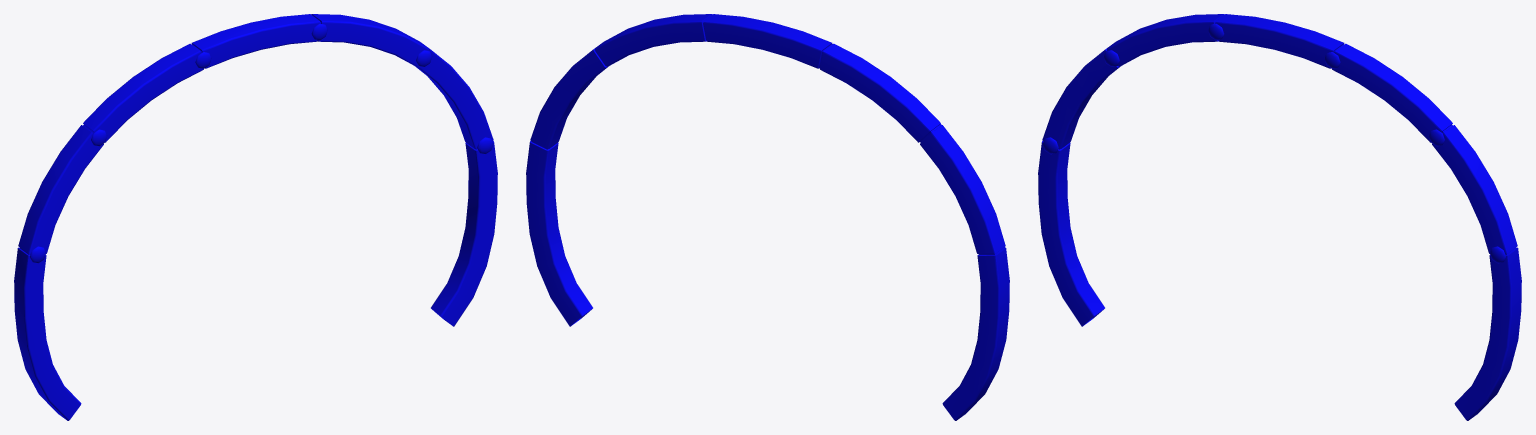
Rendered from GB_arch.fbx.
3 views of the same model, side by side, from view 1: azimuth 30°, elevation 25°; view 2: azimuth 150°, elevation 25°; view 3: azimuth 330°, elevation 25° (orthographic).
Parts seen in each view (by area): view 1: arch; view 2: arch; view 3: arch.
Boxes of the visible parts, x1,y1,x2,y2 form: arch: [14, 14, 497, 420]; arch: [526, 14, 1009, 420]; arch: [1038, 14, 1521, 420].
Bounding box in the file's own units: 874 × 606 × 41.1.
